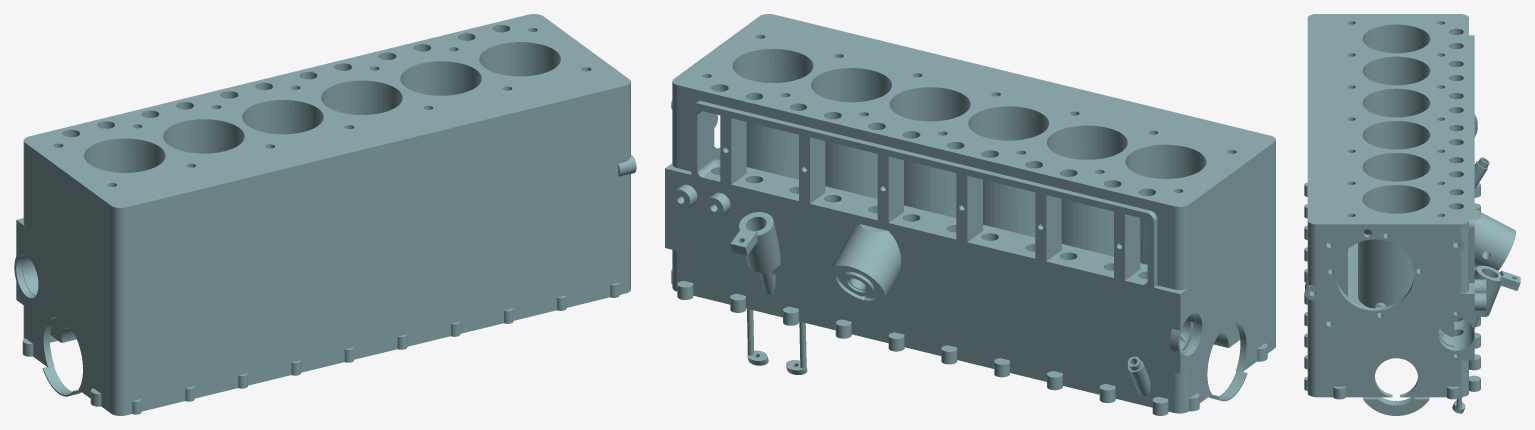
File: block.glb
The picture shows the model from 3 angles, left to right: view 1: azimuth 30°, elevation 25°; view 2: azimuth 150°, elevation 25°; view 3: azimuth 270°, elevation 25°; orthographic projection. The views are drawn at different scales.
Visible parts, largest first — view 1: world; view 2: world; view 3: world.
Boxes of the visible parts, box(x1,y1,x2,y2) form: world: box(14, 14, 636, 415); world: box(665, 14, 1275, 415); world: box(1304, 14, 1520, 415).
Size of the model in its own units: 0.762 by 0.3656 by 0.3243.
